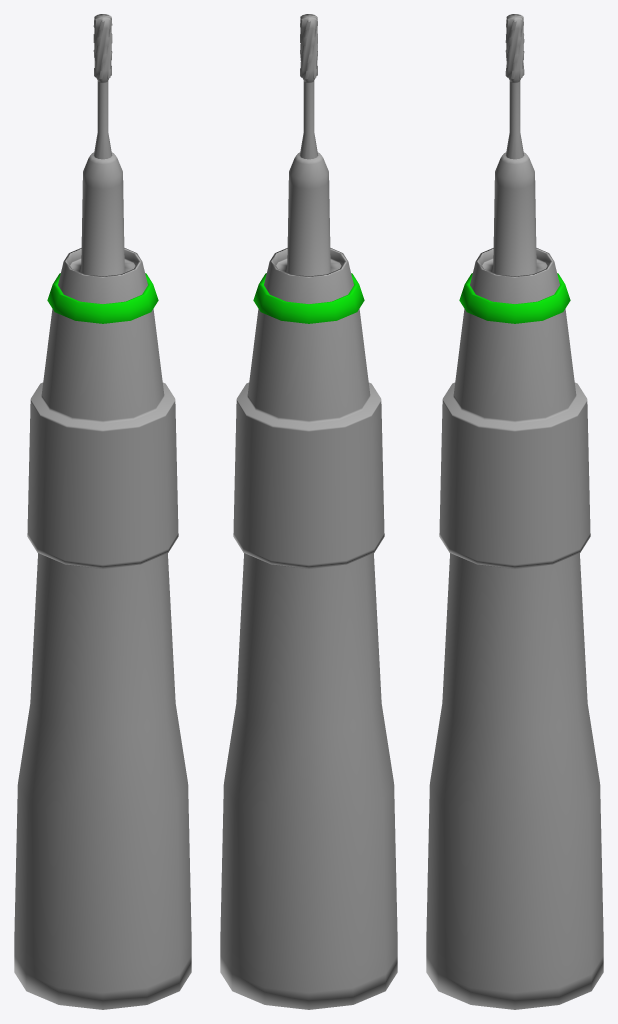
Rendered from Round_Bar_Fissure_Model.fbx.
3 renders of one model, left to right at view 1: azimuth 30°, elevation 25°; view 2: azimuth 150°, elevation 25°; view 3: azimuth 270°, elevation 25°, orthographic.
Parts seen in each view (by area): view 1: Fissure_round_bar, Fissure_Light, Fissure_round_bar_Head; view 2: Fissure_round_bar, Fissure_Light, Fissure_round_bar_Head; view 3: Fissure_round_bar, Fissure_Light, Fissure_round_bar_Head.
Boxes of the visible parts, x1,y1,x2,y2 form: Fissure_round_bar: [14, 152, 191, 1009]; Fissure_Light: [47, 273, 158, 323]; Fissure_round_bar_Head: [93, 14, 112, 159]; Fissure_round_bar: [220, 152, 397, 1009]; Fissure_Light: [253, 273, 364, 323]; Fissure_round_bar_Head: [299, 14, 318, 159]; Fissure_round_bar: [426, 152, 603, 1009]; Fissure_Light: [459, 273, 570, 323]; Fissure_round_bar_Head: [505, 14, 524, 159].
Size of the model in its own units: 1.63 by 9.73 by 1.63.
